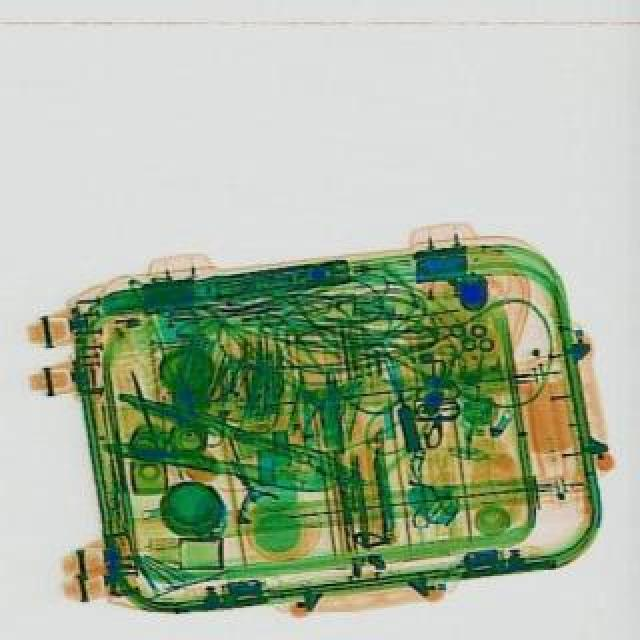pliers: (114, 364, 186, 458), (166, 370, 226, 452)
